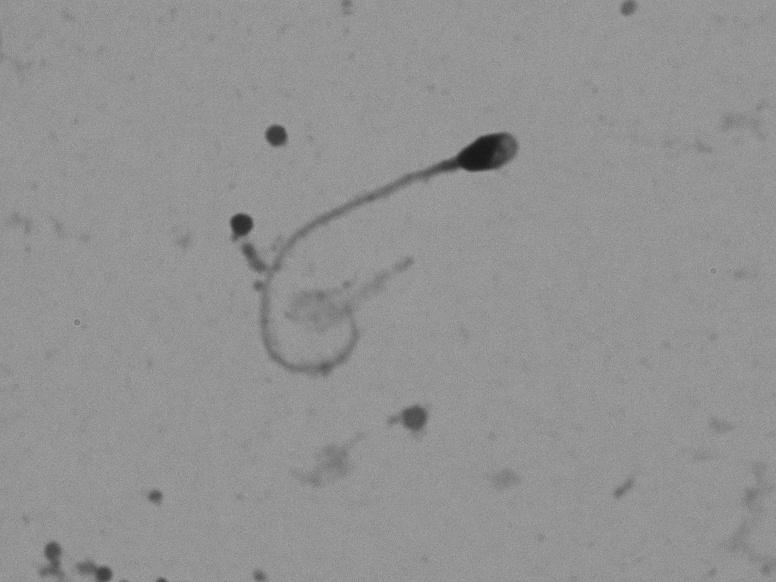Abnormal: (256, 112, 539, 403)
